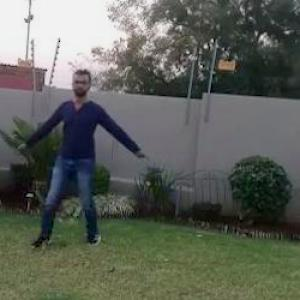land: (29, 73, 145, 227)
